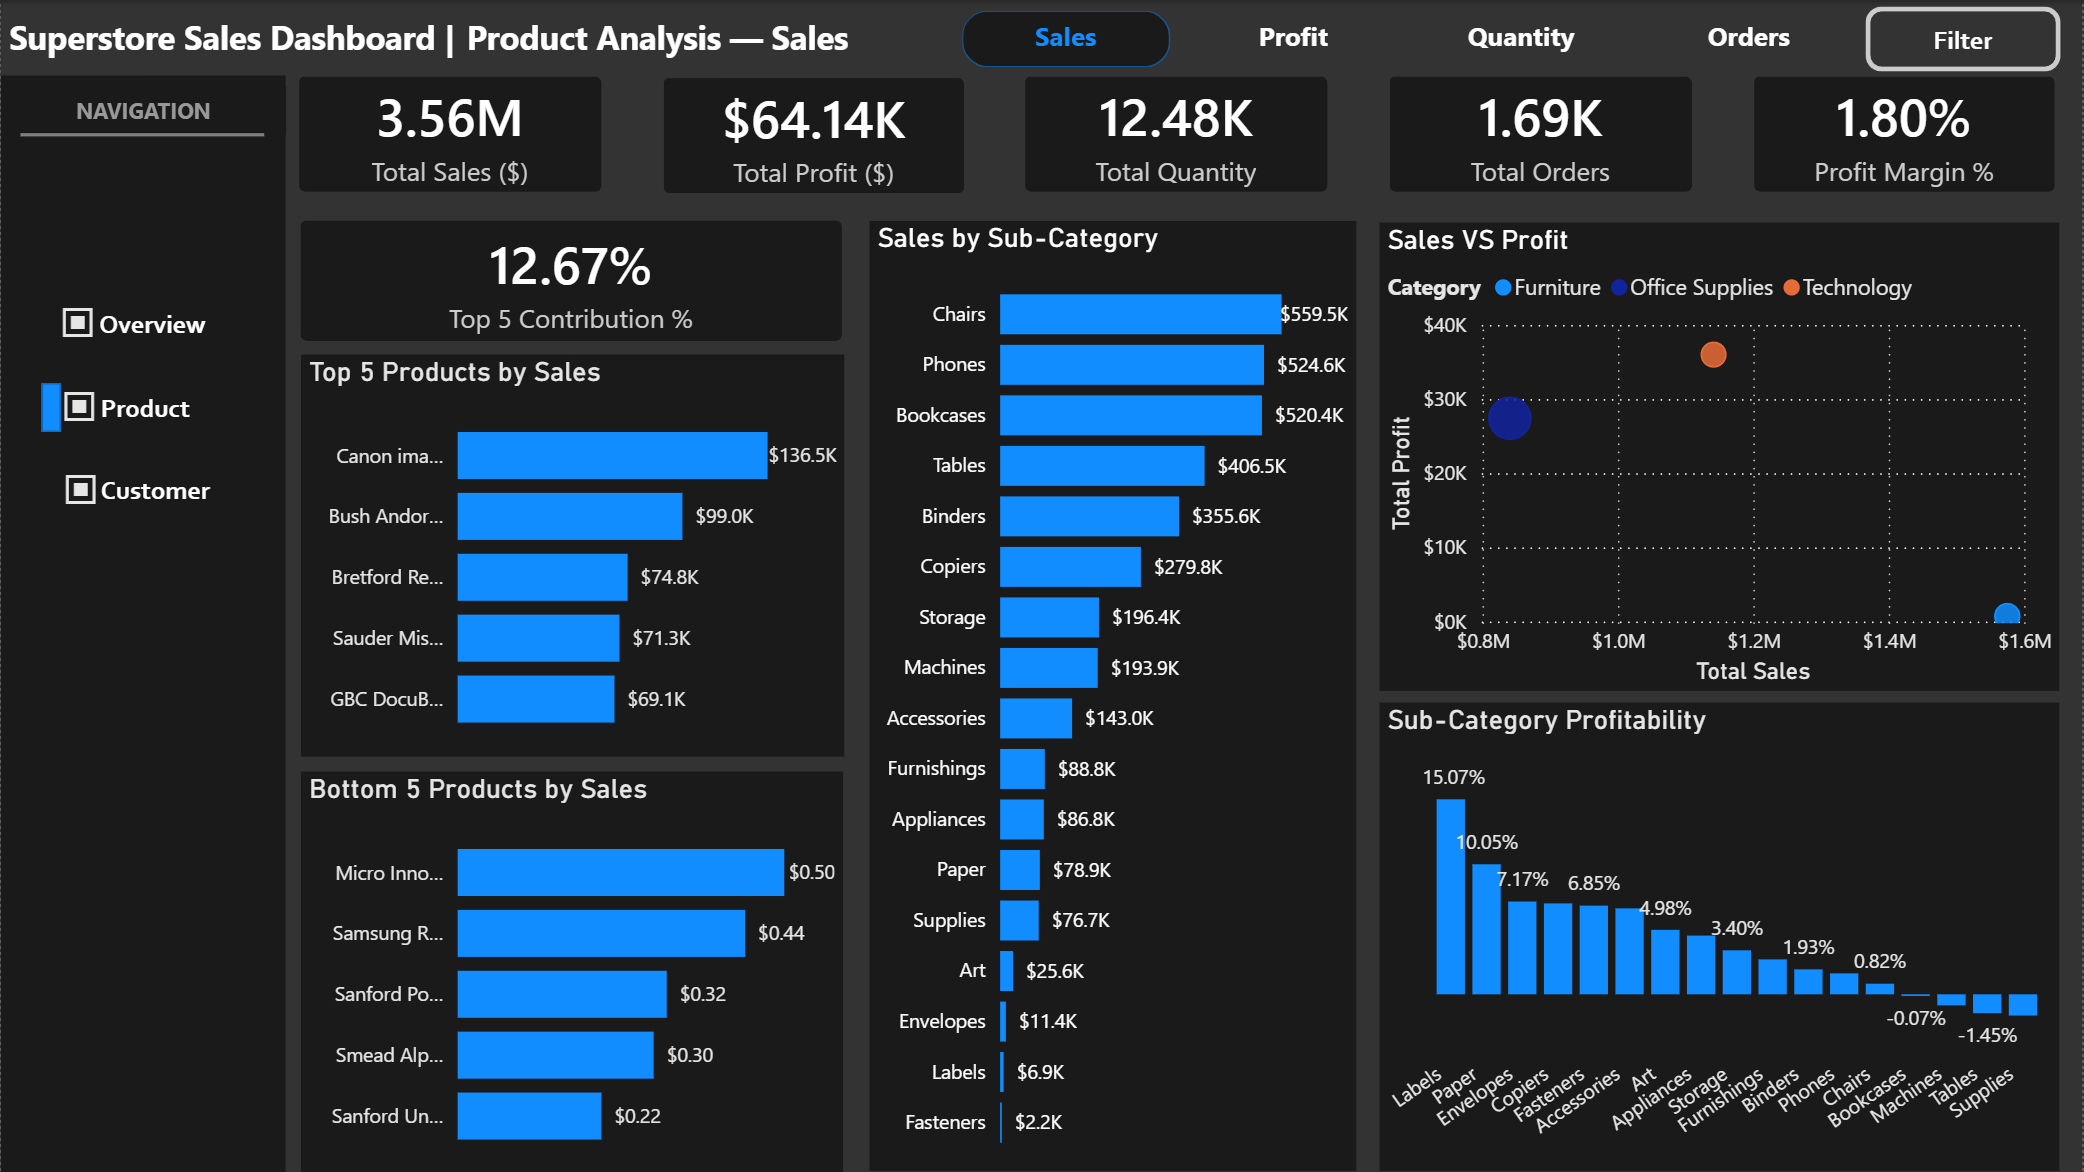

The dashboard page shown, as its layout file describes it:
{"tool":"powerbi","page":{"name":"Product","canvas":[1280,720],"ordinal":2},"visuals":[{"type":"cardVisual","title":"Card - Orders","fields":{"Data":["Measure.Profit Margin %"]},"box":[1060.8,28.1,219.2,105.5],"z":0},{"type":"cardVisual","title":"Card - Orders","fields":{"Data":["Measure.Total Orders"]},"box":[836.7,28.1,220.4,105.5],"z":1000},{"type":"cardVisual","title":"Card - Quantity","fields":{"Data":["Measure.Total Quantity"]},"box":[612.8,28.6,220.2,105.5],"z":2000},{"type":"cardVisual","title":"Card - Profit","fields":{"Data":["Measure.Total Profit"]},"box":[389.9,29.6,219.2,105.5],"z":3000},{"type":"cardVisual","title":"Card - Sales","fields":{"Data":["Measure.Total Sales"]},"box":[165.9,28.7,220.2,105.3],"z":4000},{"type":"actionButton","title":"Tab - Filter","box":[1146,3,120,40],"z":9000},{"type":"shape","title":"Nav - Background","box":[0,45,175,675],"z":10000},{"type":"textbox","title":"Nav - Title","box":[0,51.2,175,30],"z":11000},{"type":"shape","title":"Nav - divider","box":[12.1,53.3,149.9,56.3],"z":12000},{"type":"actionButton","title":"Nav - overview icon","box":[24.3,173.6,46.4,37.9],"z":14000},{"type":"textbox","title":"Nav - overview text","box":[55.5,182.7,110.9,29.1],"z":15000},{"type":"actionButton","title":"Nav - overview btn","box":[20.9,177.3,104.5,40],"z":16000},{"type":"shape","title":"Nav - product Indicator","box":[24.5,234.5,12.1,30.2],"z":17000},{"type":"actionButton","title":"Nav - product icon","box":[24.7,225.1,46.4,37.9],"z":18000},{"type":"textbox","title":"Nav - product text","box":[55.8,234.2,110.9,29.1],"z":19000},{"type":"actionButton","title":"Nav - product btn","box":[21.3,228.8,104.5,40],"z":20000},{"type":"actionButton","title":"Nav - customer icon","box":[25.4,276.2,46.4,37.9],"z":22000},{"type":"textbox","title":"Nav - customer text","box":[56.6,285.3,110.9,29.1],"z":23000},{"type":"actionButton","title":"Nav - customer btn","box":[22,279.9,104.5,40],"z":24000},{"type":"advancedSlicerVisual","fields":{"Values":["Metric Parameter.Metric Parameter"]},"box":[586,0,560,45],"z":25000},{"type":"clusteredBarChart","fields":{"Y":["Measure.Total Sales"],"Category":["DimProduct.Product Name"]},"box":[184,217,334,247],"z":26000},{"type":"clusteredBarChart","fields":{"Y":["Measure.Total Sales"],"Category":["DimProduct.Sub-Category"]},"box":[534,135,299,584],"z":27000},{"type":"scatterChart","title":"Sales VS Profit","fields":{"X":["Measure.Total Sales"],"Y":["Measure.Total Profit"],"Series":["DimProduct.Category"],"Size":["Measure.Total Quantity"],"Category":["DimProduct.Category"]},"box":[848,136,418,288],"z":28000},{"type":"clusteredBarChart","fields":{"Y":["Measure.Total Sales"],"Category":["DimProduct.Product Name"]},"box":[184,473,333,247],"z":29000},{"type":"cardVisual","title":"Card - Orders","fields":{"Data":["Measure.Top 5 Contribution %"]},"box":[167,117,367,108],"z":30000},{"type":"clusteredColumnChart","title":"Sub-Category Profitability","fields":{"Category":["DimProduct.Sub-Category"],"Y":["Measure.Profit Margin %"]},"box":[848,431,418,288],"z":31000},{"type":"shape","box":[281,0,253,43],"z":33000},{"type":"shape","box":[0,0,284,43],"z":34000}]}

Visuals, with their boxes in screenshot pixels (x1, y1, x2, y2), scaled from the page's 1280x720 canvas onto the 2084x1172 screenshot:
"Card - Orders" cardVisual: (1727,46,2083,217)
"Card - Orders" cardVisual: (1362,46,1721,217)
"Card - Quantity" cardVisual: (998,47,1356,218)
"Card - Profit" cardVisual: (635,48,992,220)
"Card - Sales" cardVisual: (270,47,629,218)
"Tab - Filter" actionButton: (1866,5,2061,70)
"Nav - Background" shape: (0,73,285,1171)
"Nav - Title" textbox: (0,83,285,132)
"Nav - divider" shape: (20,87,264,178)
"Nav - overview icon" actionButton: (40,283,115,344)
"Nav - overview text" textbox: (90,297,271,345)
"Nav - overview btn" actionButton: (34,289,204,354)
"Nav - product Indicator" shape: (40,382,60,431)
"Nav - product icon" actionButton: (40,366,116,428)
"Nav - product text" textbox: (91,381,271,429)
"Nav - product btn" actionButton: (35,372,205,438)
"Nav - customer icon" actionButton: (41,450,117,511)
"Nav - customer text" textbox: (92,464,273,512)
"Nav - customer btn" actionButton: (36,456,206,521)
advancedSlicerVisual - Metric Parameter.Metric Parameter: (954,0,1866,73)
clusteredBarChart - Measure.Total Sales x DimProduct.Product Name: (300,353,843,755)
clusteredBarChart - Measure.Total Sales x DimProduct.Sub-Category: (869,220,1356,1170)
"Sales VS Profit" scatterChart: (1381,221,2061,690)
clusteredBarChart - Measure.Total Sales x DimProduct.Product Name: (300,770,842,1171)
"Card - Orders" cardVisual: (272,190,869,366)
"Sub-Category Profitability" clusteredColumnChart: (1381,702,2061,1170)
shape: (458,0,869,70)
shape: (0,0,462,70)
